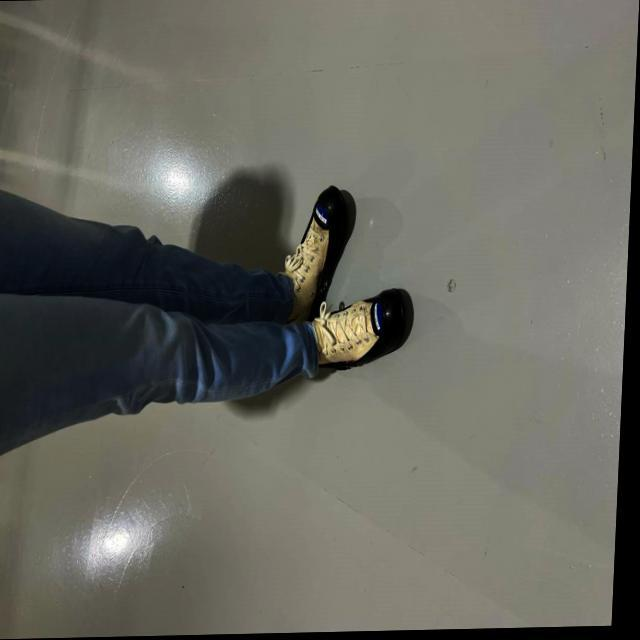shoes: (283, 168, 359, 302), (310, 285, 425, 371)
